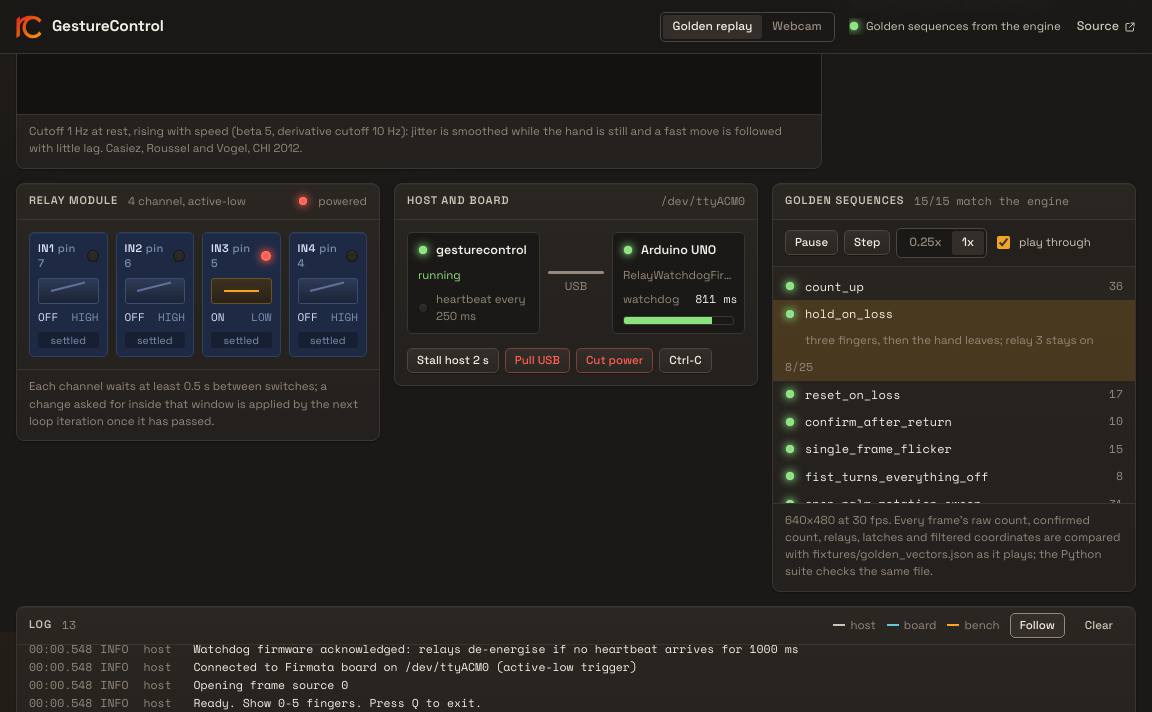
BenchPage › runs the replay through the pipeline and the host, and takes the faults
The width and height of the screenshot is (1152, 712).
(page scrolled)
Expected: the text "15/15 match the engine" is shown, 914,193 -> 1069,209
Expected: the text "running" is shown, 418,267 -> 461,283
Click the button "Pull USB": (537, 360) 505,348 -> 570,373
Wait 1600 ms
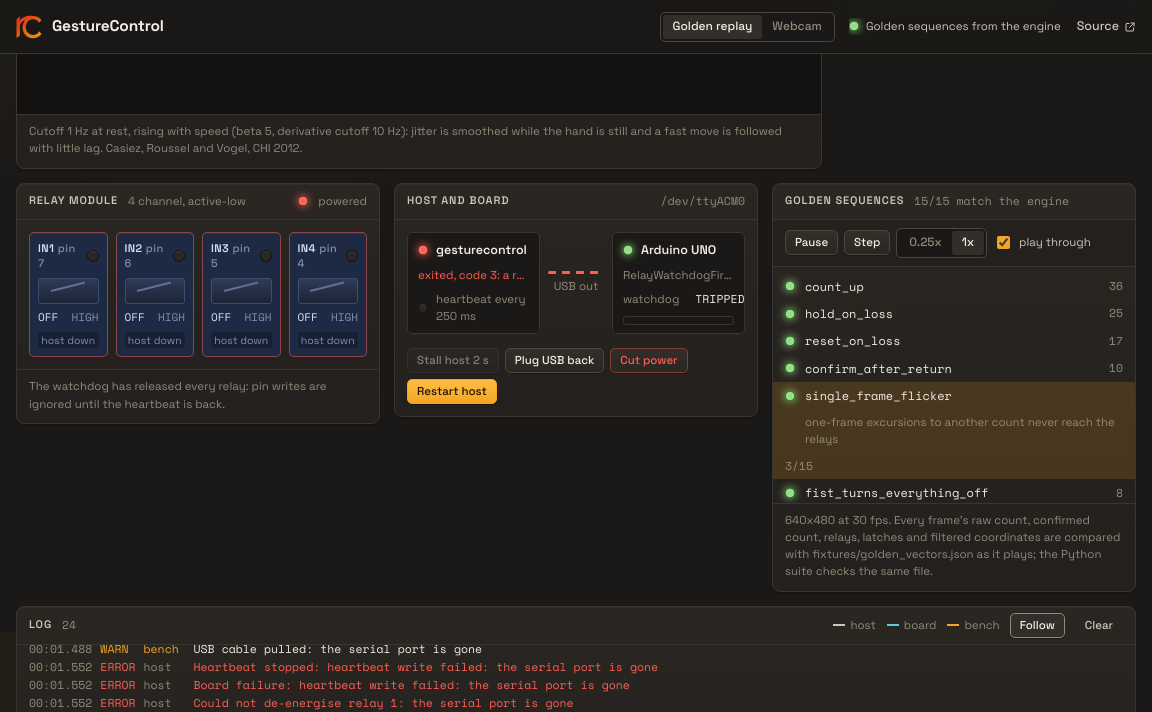
Expected: the text "exited, code 3: a relay may be left on" is shown, 418,267 -> 529,283
Click the button "Plug USB back": (555, 360) 505,348 -> 604,373
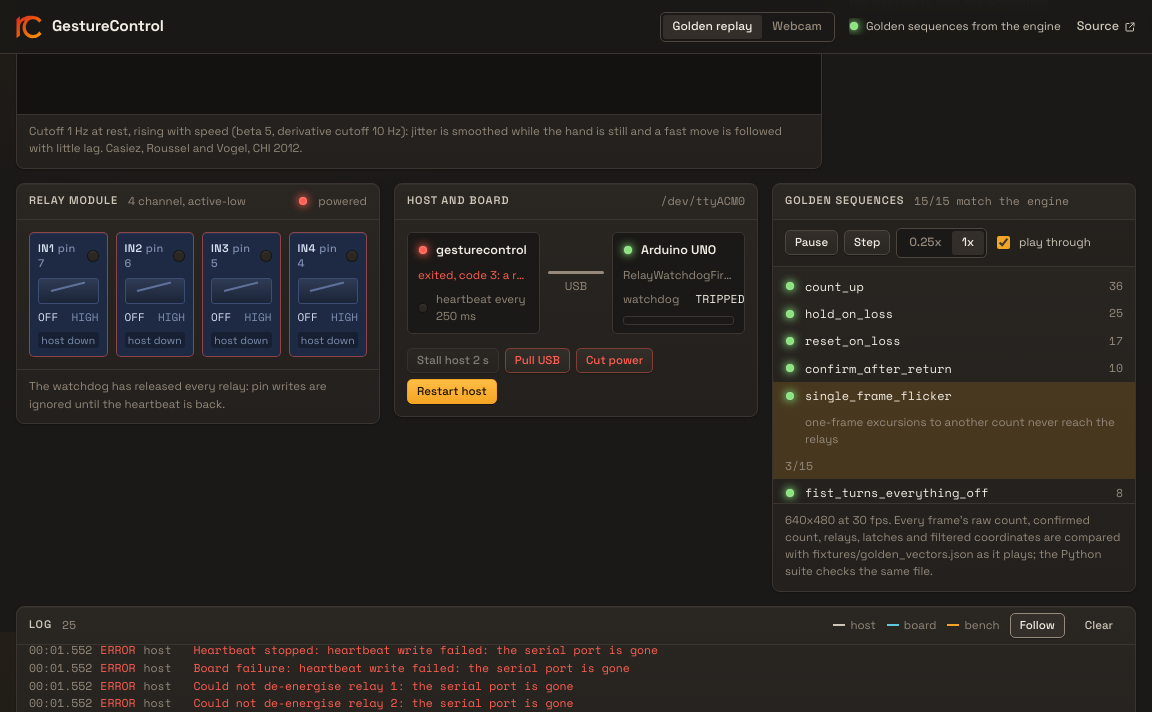
Click the button "Restart host": (452, 391) 407,379 -> 497,404
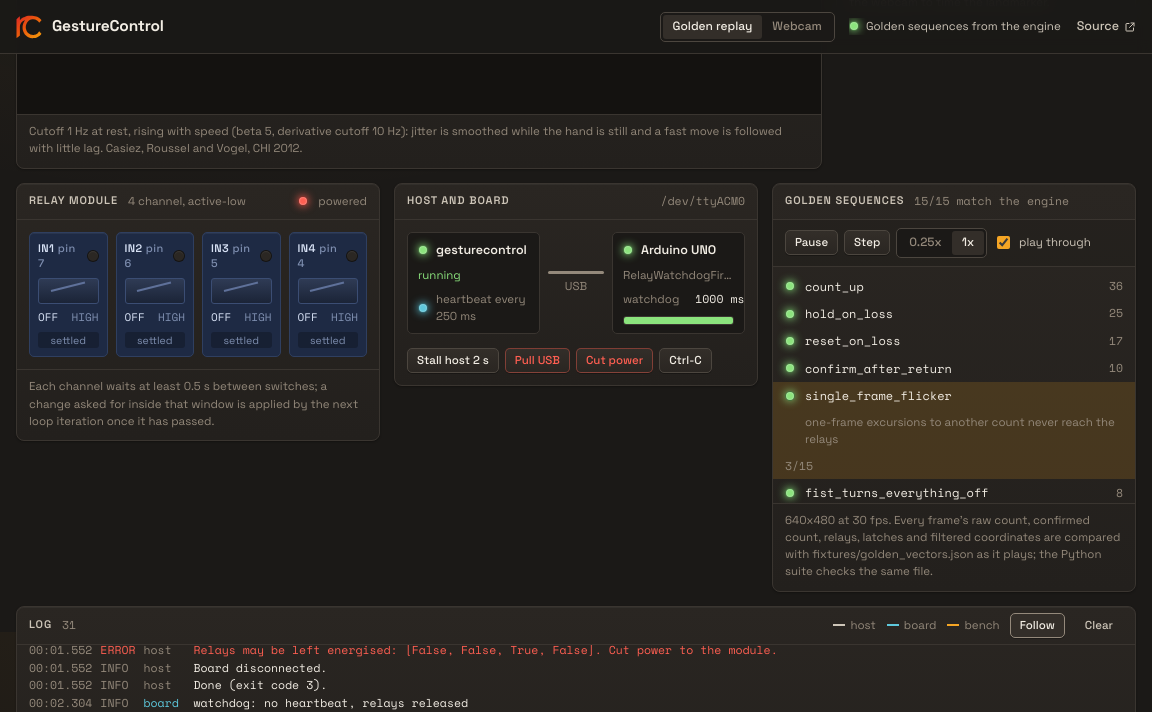
Expected: the text "running" is shown, 418,267 -> 461,283
